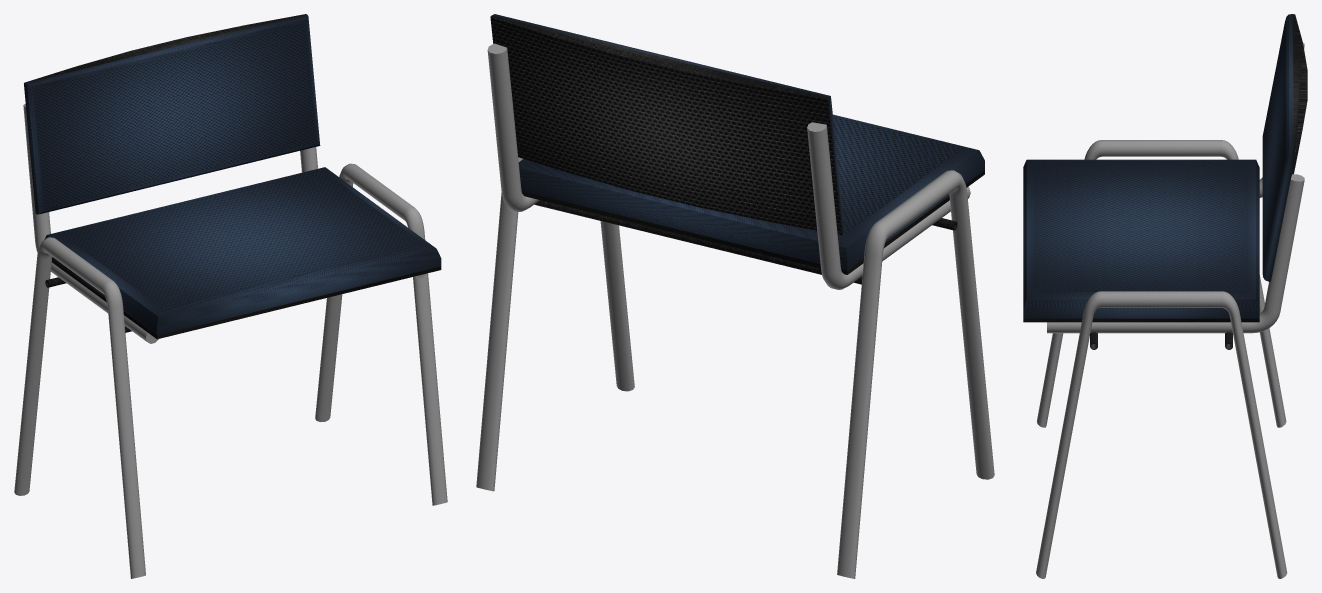
The model's file is SillaAzul.FBX.
The picture shows the model from 3 angles, left to right: view 1: azimuth 30°, elevation 25°; view 2: azimuth 150°, elevation 25°; view 3: azimuth 270°, elevation 25°; orthographic projection. The views are drawn at different scales.
Visible parts, largest first — view 1: Espaldar, Asiento, PataIzq, PataDer, SoporteDer; view 2: Espaldar, Asiento, PataIzq, PataDer, SoporteDer, SoporteIzq, Soporte1; view 3: Asiento, PataDer, Espaldar, PataIzq, SoporteIzq.
Boxes of the visible parts, x1=… form: Espaldar: x1=24, y1=14, x2=320, y2=214; Asiento: x1=44, y1=167, x2=441, y2=339; PataIzq: x1=14, y1=237, x2=145, y2=578; PataDer: x1=315, y1=163, x2=447, y2=505; SoporteDer: x1=23, y1=103, x2=158, y2=343; Espaldar: x1=490, y1=14, x2=844, y2=234; Asiento: x1=518, y1=114, x2=984, y2=274; PataIzq: x1=837, y1=170, x2=994, y2=578; PataDer: x1=476, y1=157, x2=634, y2=491; SoporteDer: x1=807, y1=122, x2=970, y2=289; SoporteIzq: x1=487, y1=43, x2=539, y2=211; Soporte1: x1=534, y1=200, x2=862, y2=284; Asiento: x1=1023, y1=159, x2=1259, y2=322; PataDer: x1=1036, y1=291, x2=1287, y2=578; Espaldar: x1=1262, y1=14, x2=1307, y2=281; PataIzq: x1=1037, y1=140, x2=1286, y2=427; SoporteIzq: x1=1047, y1=174, x2=1304, y2=333.
Bounding box in the file's own units: 21.97 × 26.77 × 16.59.
Materials: 5 (4 with a texture image).
